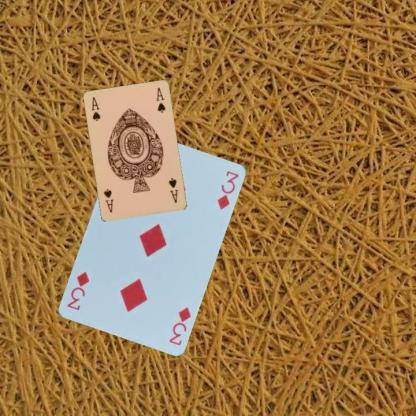3d: (166, 304, 192, 347)
As: (166, 176, 180, 204), (89, 94, 102, 123)
